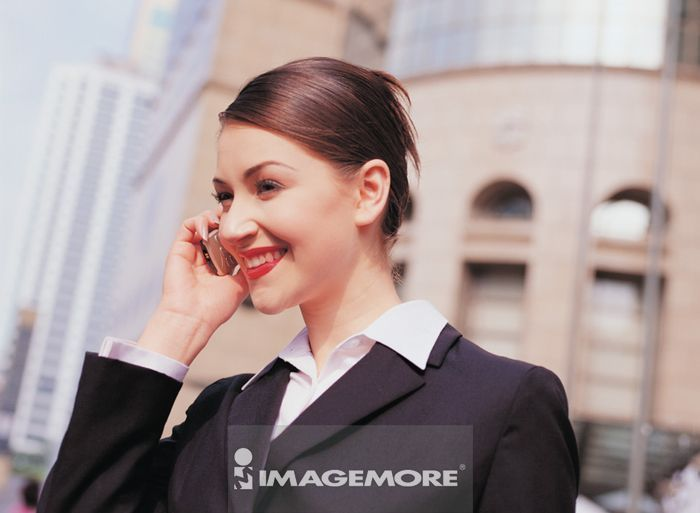talk: (156, 151, 328, 341)
